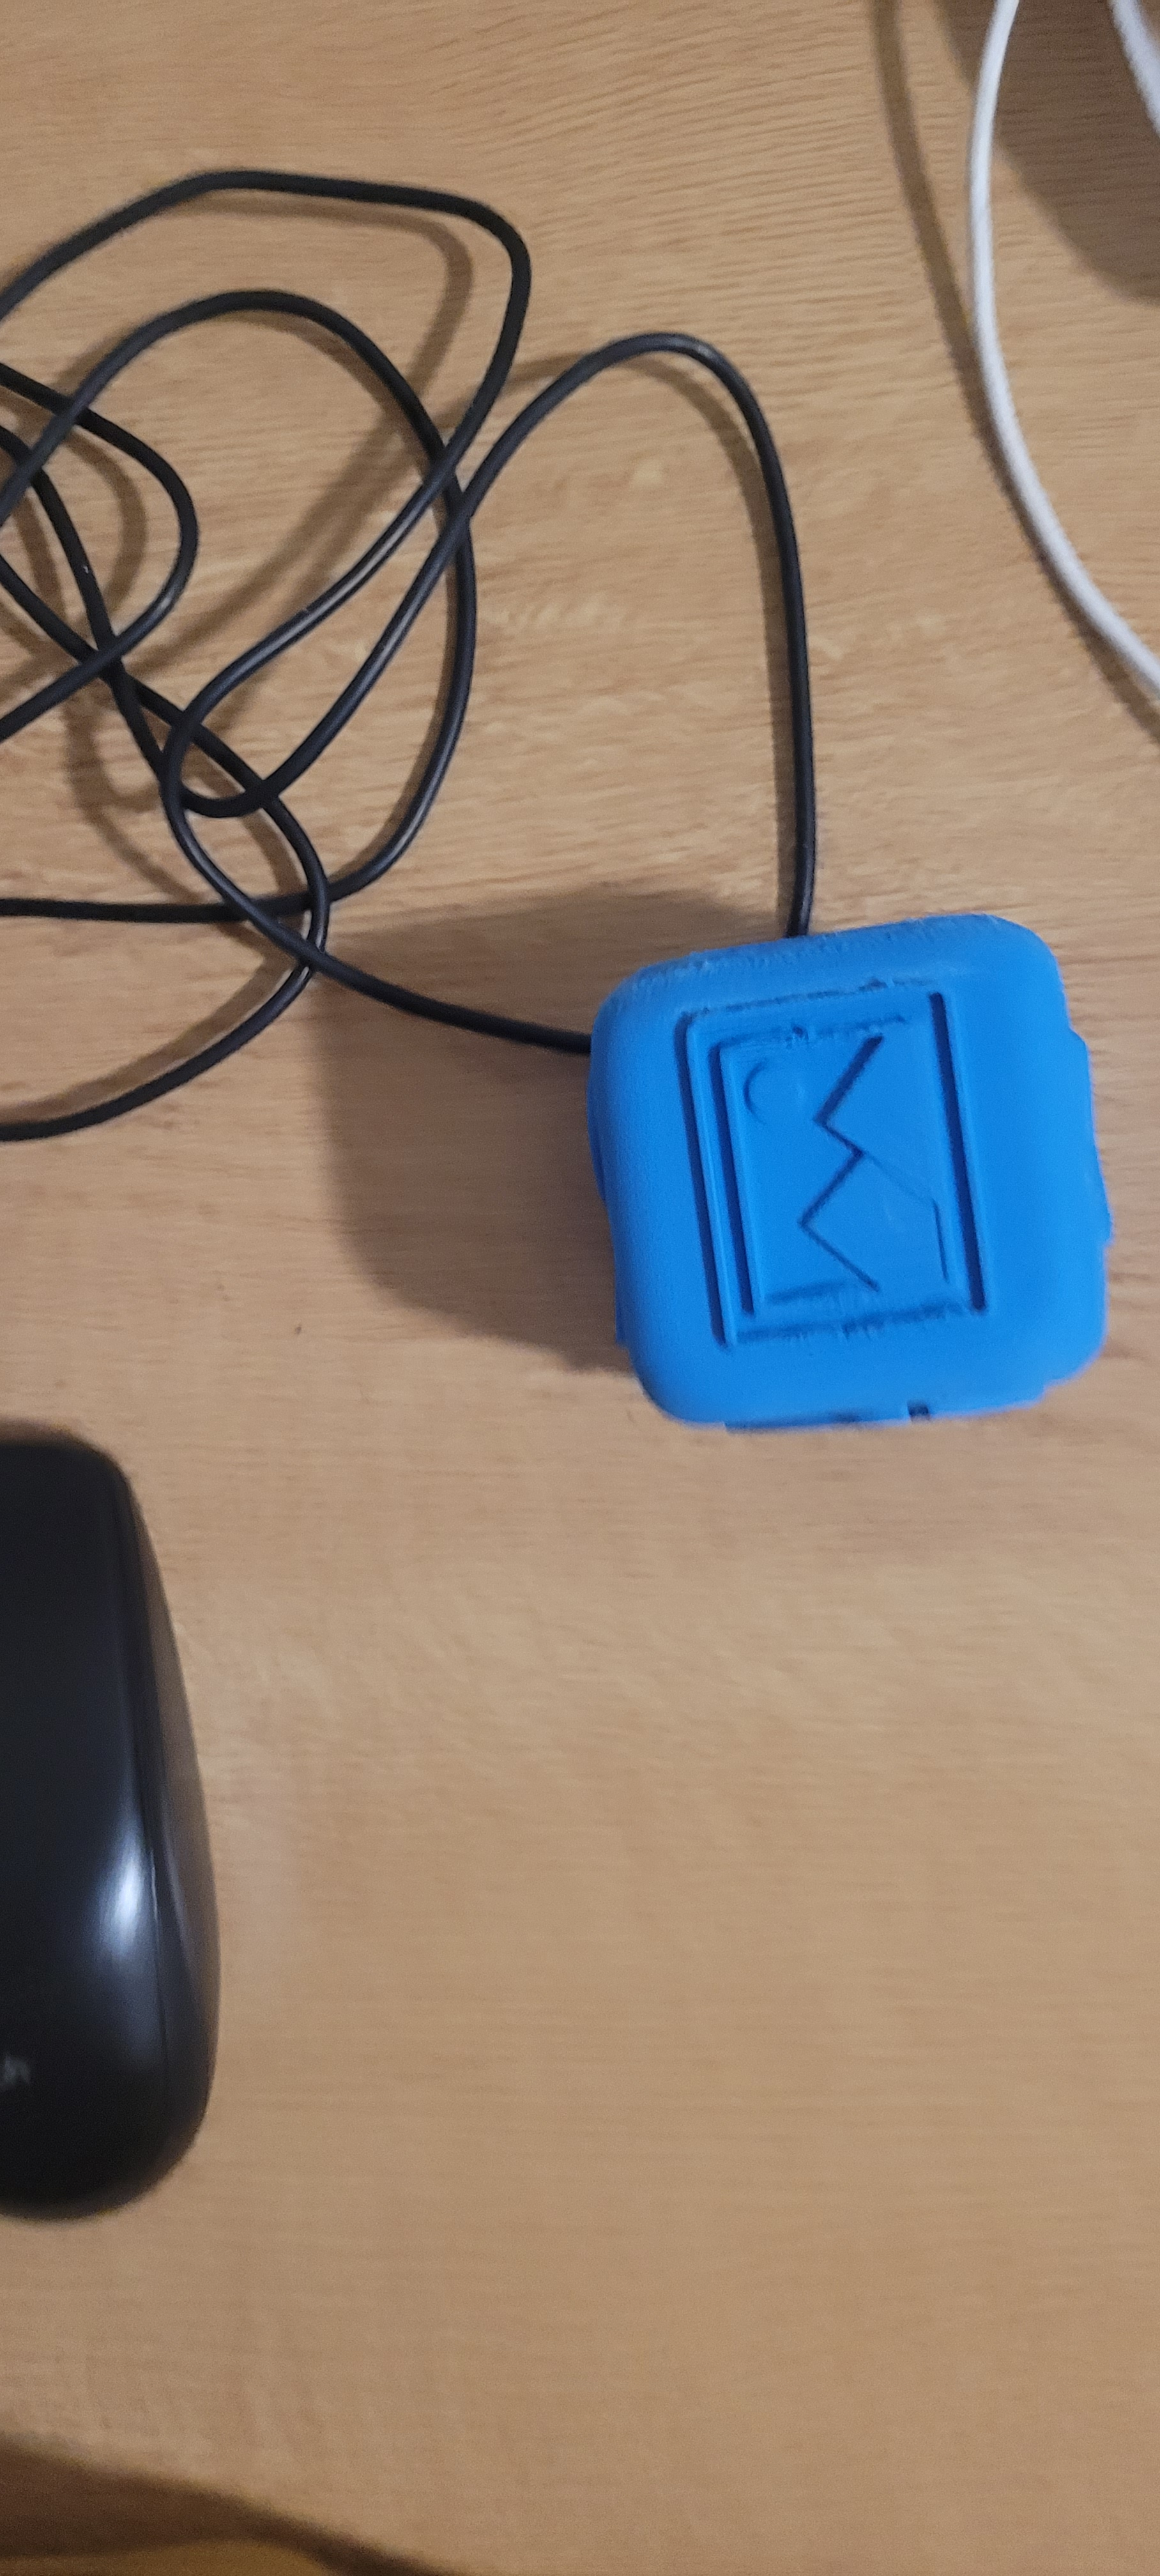Story: (649, 1010, 1006, 1360)
